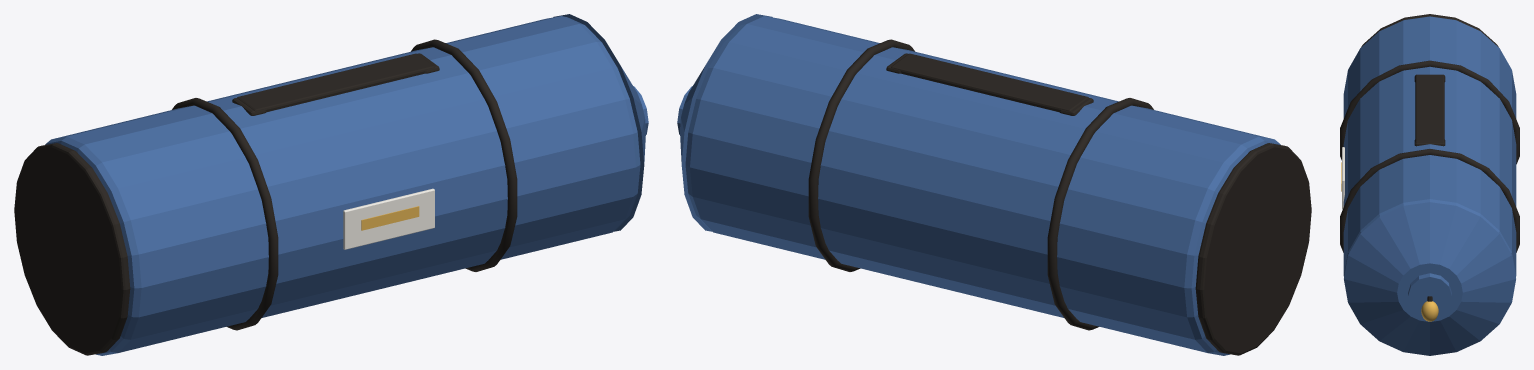
Rendered from hh_cat_tent_bag.glb.
3 renders of one model, left to right at view 1: azimuth 30°, elevation 25°; view 2: azimuth 150°, elevation 25°; view 3: azimuth 270°, elevation 25°, orthographic. The views are drawn at different scales.
Parts seen in each view (by area): view 1: sack, end_cap, handle, logo, band, band.001, cinch, logo_mark; view 2: sack, end_cap, handle, band, band.001, cinch; view 3: sack, cinch, handle, band.001, band, cinch_neck, end_cap, toggle, logo.
Part boxes in pixels (x1,y1,x2,y2): sack: [45, 16, 640, 355]; end_cap: [14, 143, 130, 355]; handle: [237, 53, 434, 111]; logo: [343, 188, 434, 249]; band: [172, 98, 278, 330]; band.001: [411, 39, 517, 271]; cinch: [553, 14, 645, 231]; logo_mark: [361, 206, 419, 230]; sack: [685, 16, 1280, 355]; end_cap: [1195, 143, 1311, 355]; handle: [891, 53, 1088, 111]; band: [1047, 98, 1153, 330]; band.001: [808, 39, 914, 271]; cinch: [680, 14, 772, 231]; sack: [1343, 16, 1516, 276]; cinch: [1344, 202, 1515, 355]; handle: [1415, 75, 1444, 141]; band.001: [1340, 149, 1519, 252]; band: [1340, 60, 1519, 164]; cinch_neck: [1408, 273, 1451, 313]; end_cap: [1361, 14, 1498, 47]; toggle: [1421, 301, 1438, 321]; logo: [1342, 147, 1344, 209].
Size of the model in its own units: 0.7 by 0.25 by 0.25.
